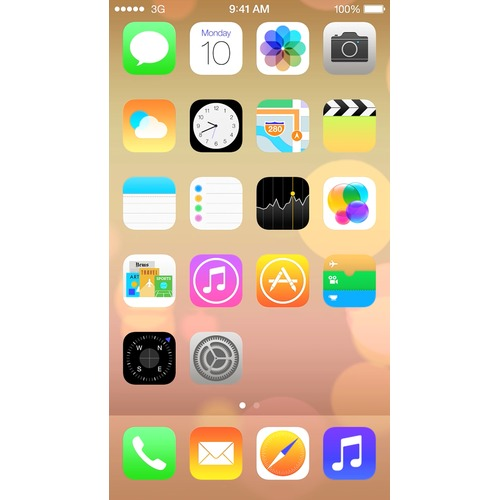calendar: (189, 21, 243, 76)
camera: (322, 20, 376, 76)
clock: (189, 97, 243, 152)
mail: (189, 427, 243, 479)
message: (123, 21, 176, 74)
phone: (122, 426, 175, 479)
